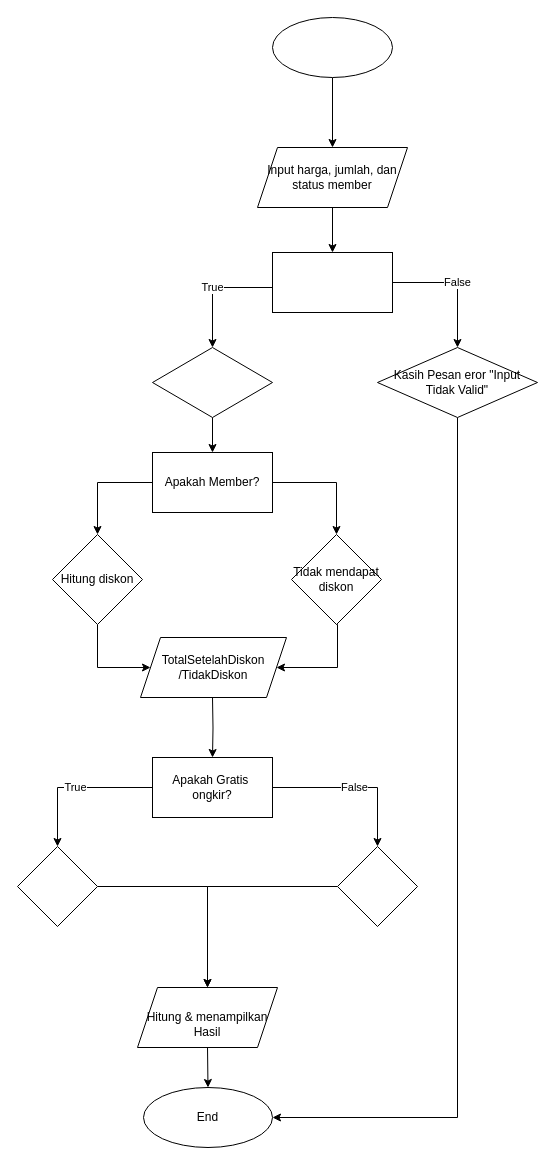
Some shapes in this 555 by 1165 pixel diagram are drawn without their labels. The shapes that lost their labels are listed below. From the top down, each one's centre as x and y in pixels, then its label:
(x=332, y=47): Start
(x=332, y=282): Apakah input Valid?
(x=212, y=382): Hitung-Subtotal
(x=57, y=886): Onkor Rp. 0
(x=377, y=886): Ongkir Rp.15000
